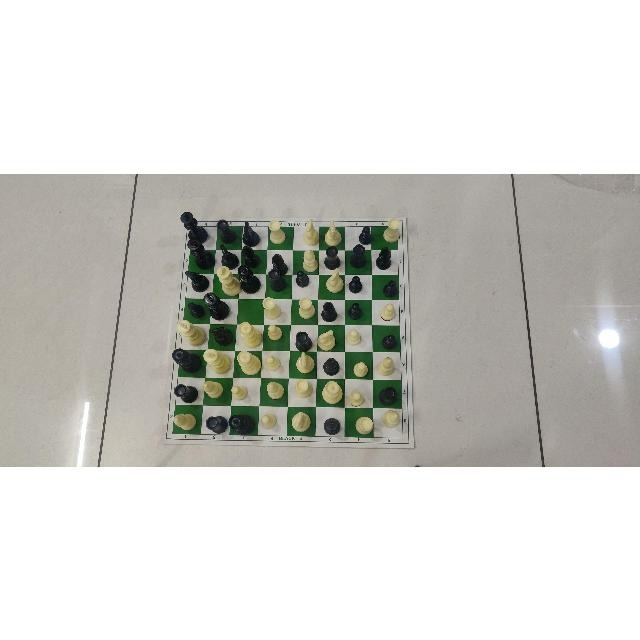black-bishop: (374, 245, 396, 270), (240, 243, 261, 267), (320, 299, 340, 322), (269, 252, 289, 274), (323, 415, 343, 435), (322, 356, 342, 376)
black-king: (180, 210, 208, 244), (186, 237, 213, 269), (202, 290, 229, 320)
black-knight: (184, 267, 209, 292), (208, 324, 233, 347), (218, 242, 240, 268), (241, 220, 260, 246)
black-pawn: (187, 300, 205, 320), (356, 226, 375, 244), (347, 301, 365, 320), (380, 332, 400, 349), (293, 269, 311, 287), (382, 280, 400, 298), (347, 275, 364, 293)
black-queen: (172, 343, 202, 375), (237, 263, 261, 293), (229, 412, 255, 434)
black-rook: (214, 218, 237, 243), (174, 382, 200, 404), (265, 267, 288, 291), (347, 242, 368, 267), (378, 384, 400, 407), (323, 246, 343, 270), (204, 414, 228, 434), (294, 331, 314, 351)
white-bishop: (172, 412, 199, 432), (264, 378, 286, 402), (300, 248, 320, 274), (200, 378, 223, 399), (375, 354, 395, 375), (381, 409, 400, 429)
white-king: (215, 263, 241, 297), (202, 346, 232, 374), (176, 320, 204, 346)
white-knight: (298, 217, 322, 249), (319, 218, 343, 244), (289, 408, 313, 434), (322, 267, 346, 293), (295, 350, 317, 375), (316, 326, 338, 349)
white-pawn: (347, 389, 367, 407), (260, 409, 278, 428), (265, 324, 285, 341), (379, 303, 397, 321), (346, 328, 364, 346), (265, 354, 283, 372), (230, 383, 248, 401), (350, 359, 367, 378)
white-queen: (238, 320, 264, 350), (236, 348, 262, 376), (320, 379, 344, 405)
white-rook: (267, 219, 289, 244), (354, 413, 377, 436), (261, 296, 283, 320), (380, 217, 402, 241), (295, 296, 316, 320), (291, 377, 313, 399)
